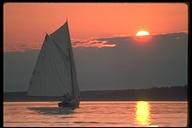sailboat: (25, 15, 83, 113)
sky: (80, 5, 186, 84)
sun: (133, 29, 153, 44)
water: (81, 102, 186, 126), (4, 102, 58, 126)
